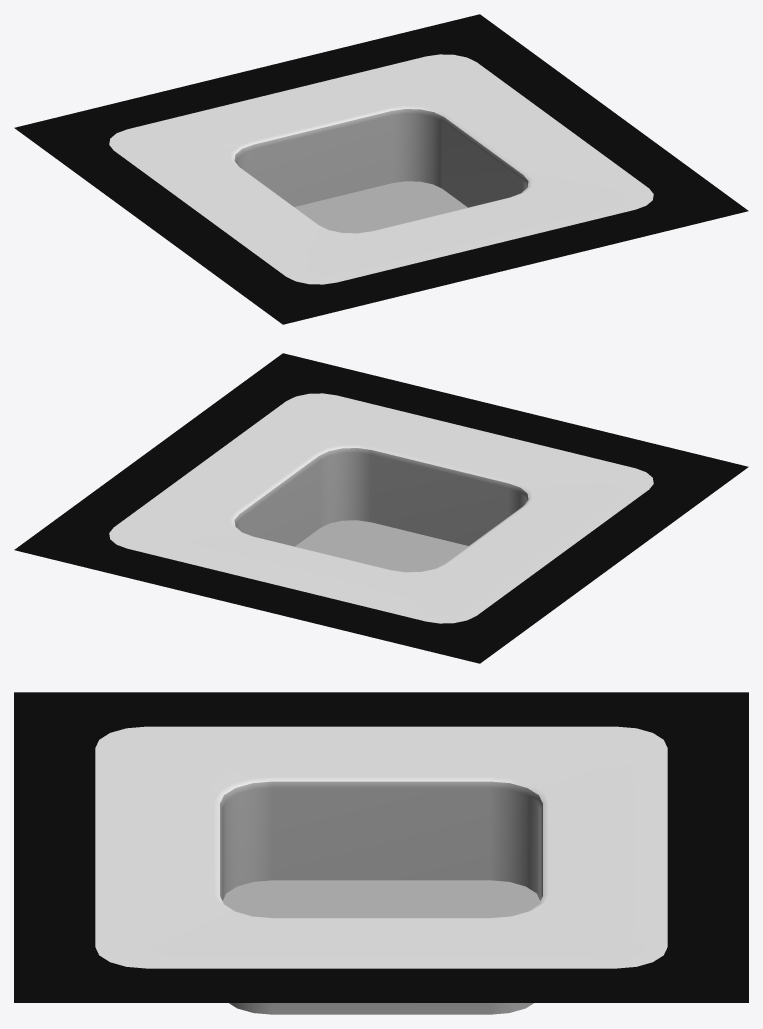
The model's file is Cell_White_True.fbx.
The picture shows the model from 3 angles, top to bottom: view 1: azimuth 30°, elevation 25°; view 2: azimuth 150°, elevation 25°; view 3: azimuth 270°, elevation 25°; orthographic projection. The views are drawn at different scales.
Parts seen in each view (by area): view 1: Tile_White, Cell_Border; view 2: Tile_White, Cell_Border; view 3: Tile_White, Cell_Border.
Part boxes in pixels (x1,y1,x2,y2): Tile_White: (109, 54, 653, 284); Cell_Border: (14, 14, 748, 324); Tile_White: (109, 393, 653, 623); Cell_Border: (14, 353, 748, 663); Tile_White: (95, 726, 667, 1014); Cell_Border: (14, 692, 748, 1002).
Bounding box in the file's own units: 112 × 16.8 × 112.
